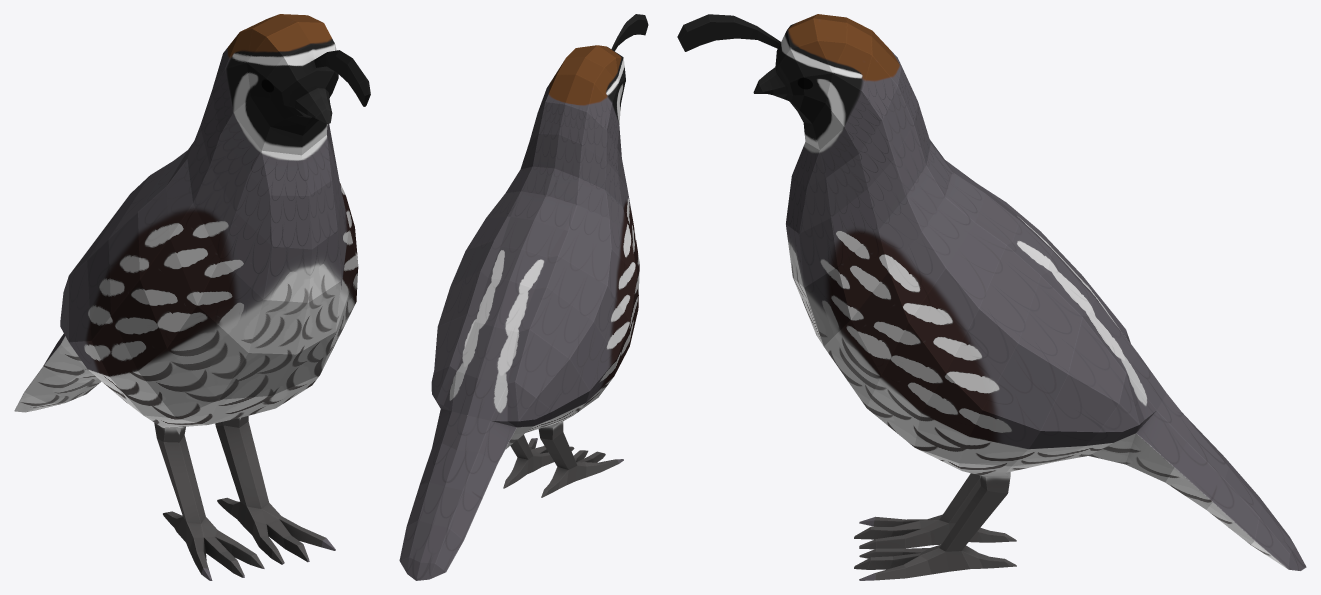
The model's file is Quail.fbx.
3 views of the same model, side by side, from view 1: azimuth 30°, elevation 25°; view 2: azimuth 150°, elevation 25°; view 3: azimuth 270°, elevation 25° (orthographic). The views are drawn at different scales.
Visible parts, largest first — view 1: GambelsQuail_Mesh; view 2: GambelsQuail_Mesh; view 3: GambelsQuail_Mesh.
Part boxes in pixels (x1,y1,x2,y2): GambelsQuail_Mesh: (14, 14, 370, 580); GambelsQuail_Mesh: (399, 14, 648, 580); GambelsQuail_Mesh: (677, 14, 1306, 580).
Bounding box in the file's own units: 145 × 344 × 354.
1 material, 1 textured.
